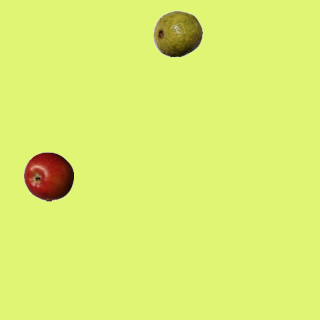Apple Braeburn: (23, 151, 73, 201)
Guava: (152, 8, 202, 58)
